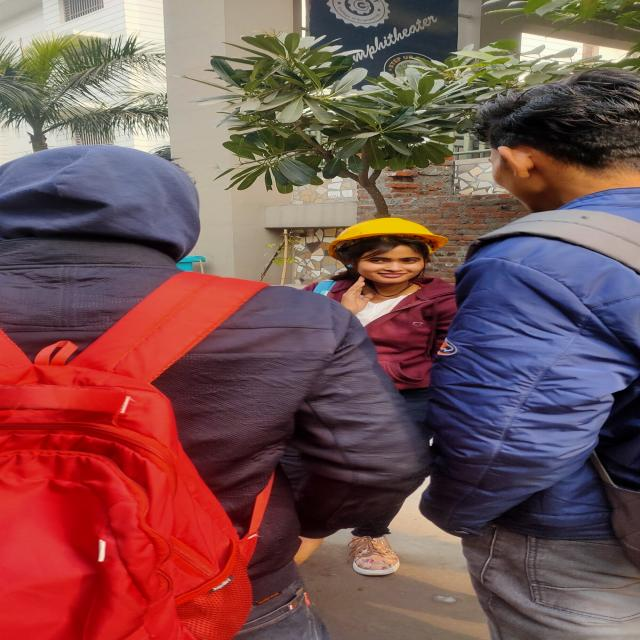no jacket: (308, 218, 469, 400)
unsafe: (0, 149, 332, 640), (446, 80, 640, 640)
